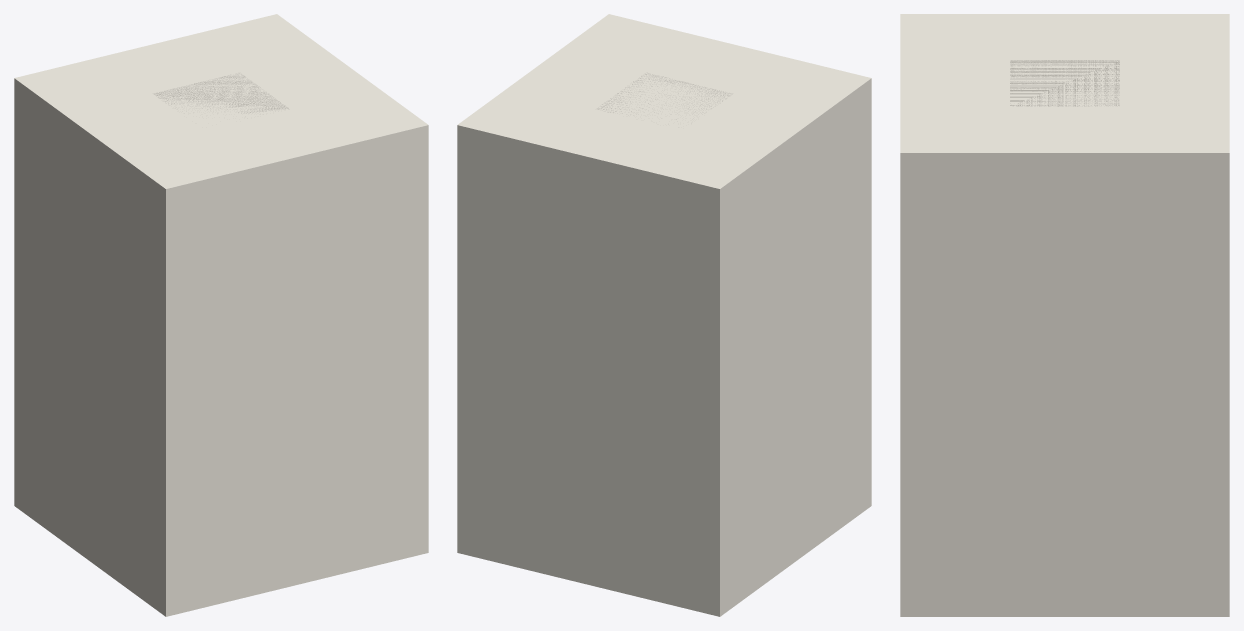
The model's file is roll.glb.
3 renders of one model, left to right at view 1: azimuth 30°, elevation 25°; view 2: azimuth 150°, elevation 25°; view 3: azimuth 270°, elevation 25°, orthographic. The views are drawn at different scales.
Parts seen in each view (by area): view 1: roll; view 2: roll; view 3: roll.
Part boxes in pixels (bbox=[...]): roll: bbox=[14, 14, 428, 616]; roll: bbox=[457, 14, 871, 616]; roll: bbox=[900, 14, 1229, 616].
Bounding box in the file's own units: 0.09 × 0.14 × 0.09.
1 material, 1 textured.
